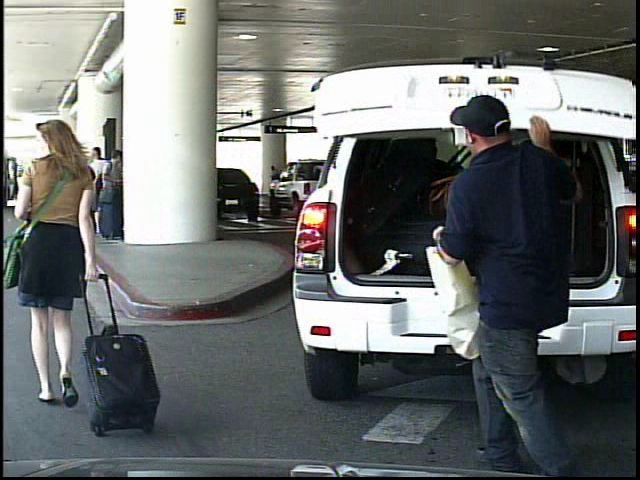person: (416, 85, 599, 476), (3, 118, 119, 433), (268, 164, 282, 200)
